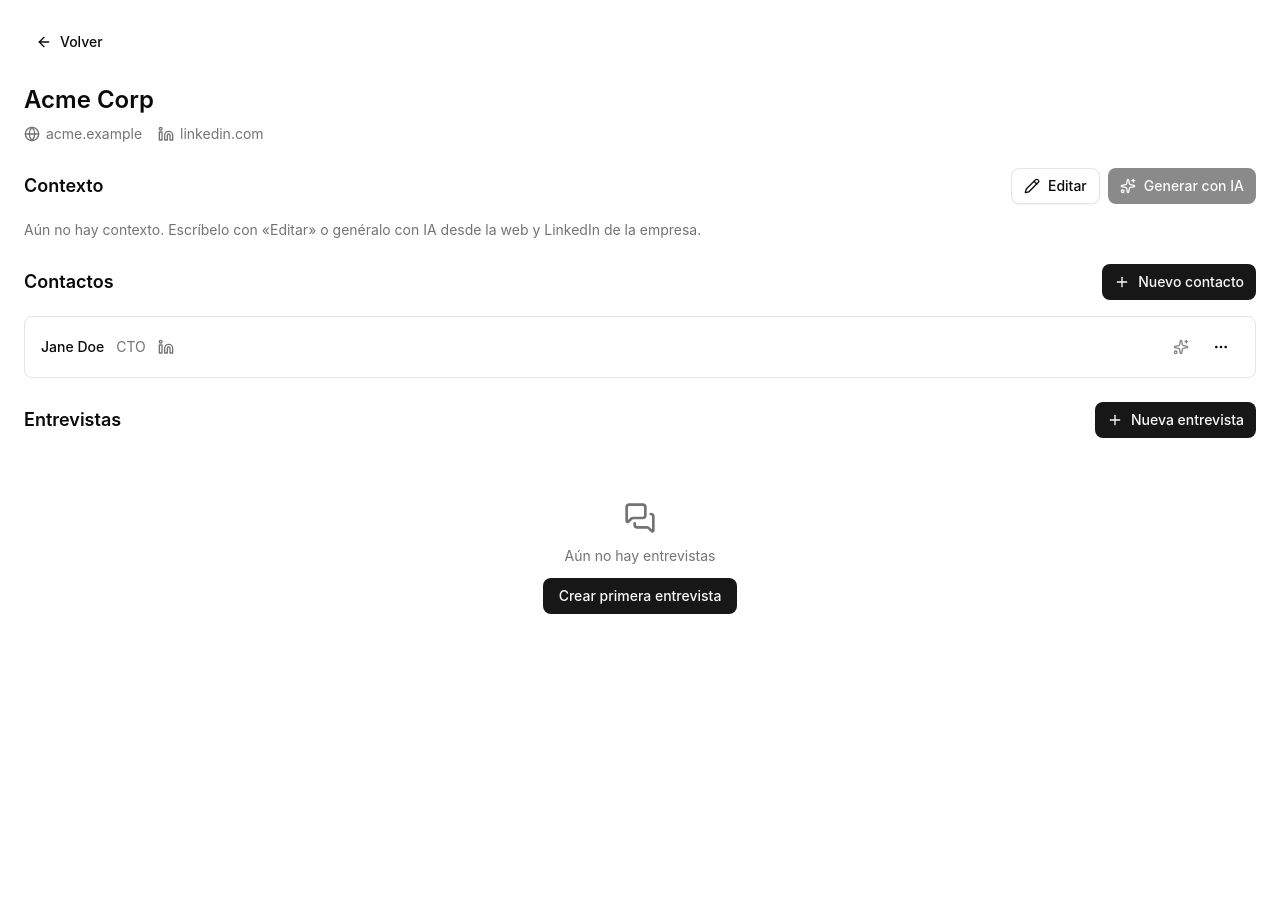
Test case: CompanyDetailPage › deleting a contact › confirms in the AlertDialog warning that interviews lose the participant, deletes via deleteContact and shows "Contacto eliminado"
Expected: the text "Jane Doe" is shown, [41,337,104,357]
Click the button named "Acciones": coordinates (1221, 347) [1203,329,1239,365]
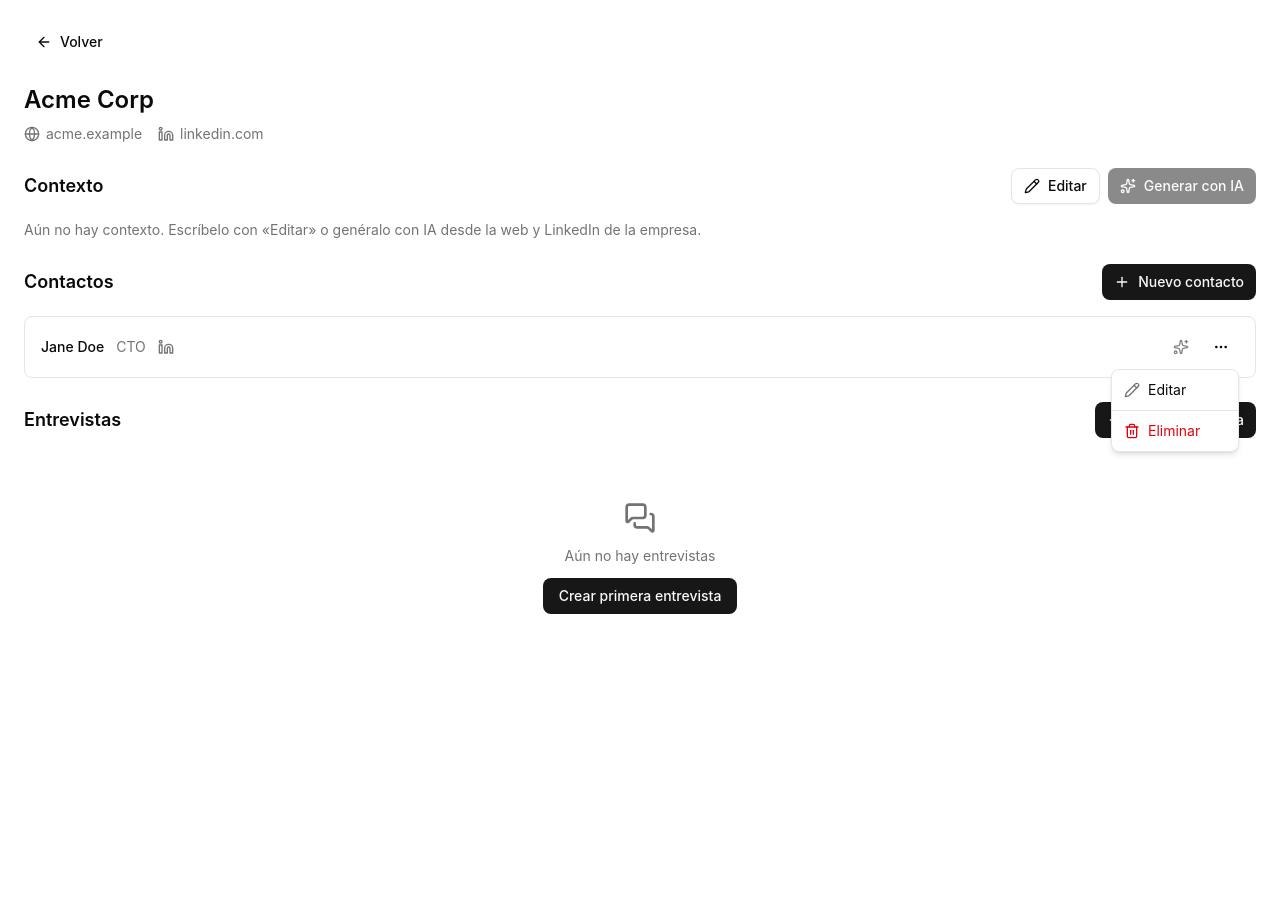
Click the menu item "Eliminar": coordinates (1162, 430) [1124,422,1200,439]
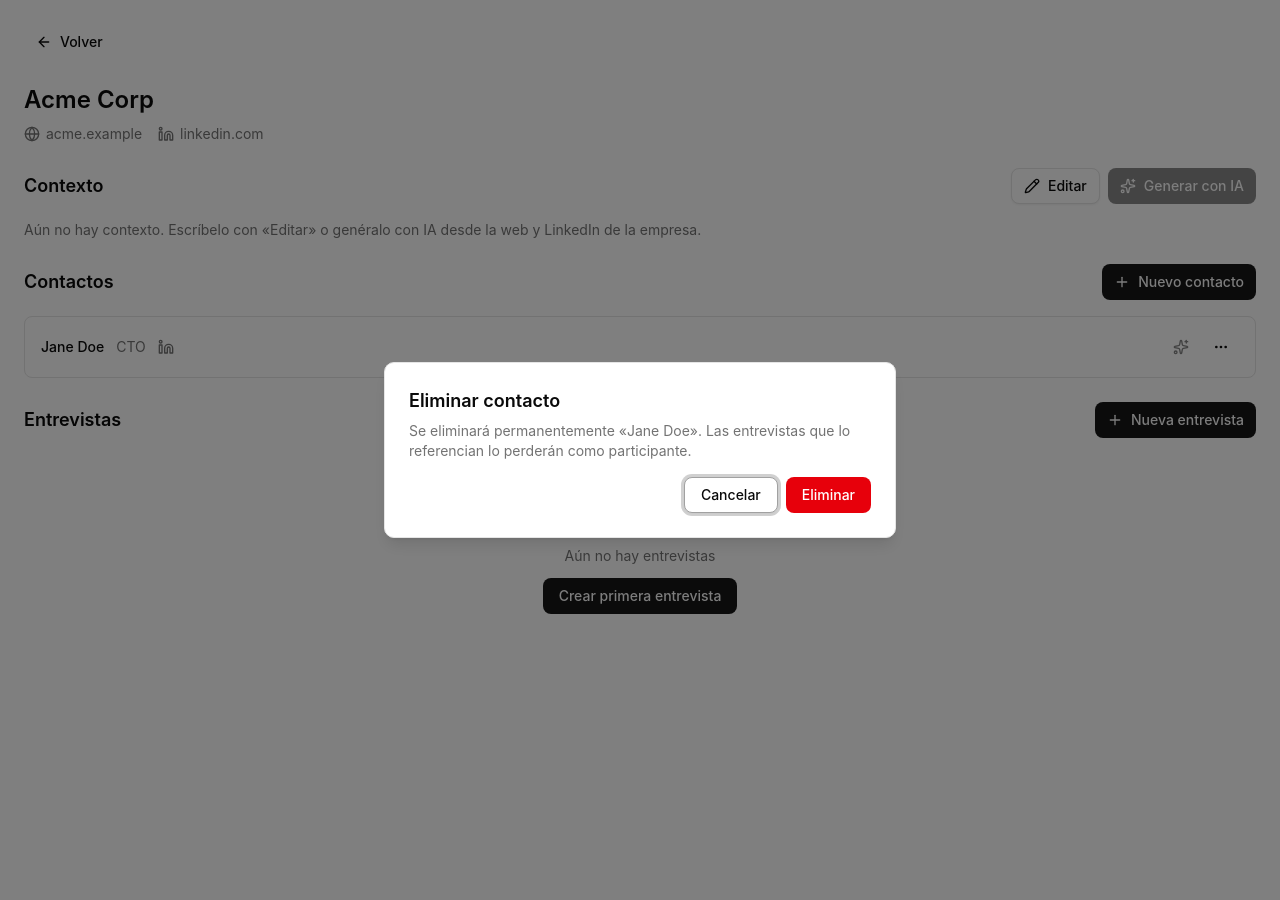
Expected: the heading "Eliminar contacto" is shown, [409,387,560,415]
Expected: the text "Se eliminará permanentemente «Jane Doe». Las entrevistas que lo referencian lo perderán como participante." is shown, [409,421,871,461]
Click the button "Eliminar": coordinates (828, 495) [786,477,871,513]
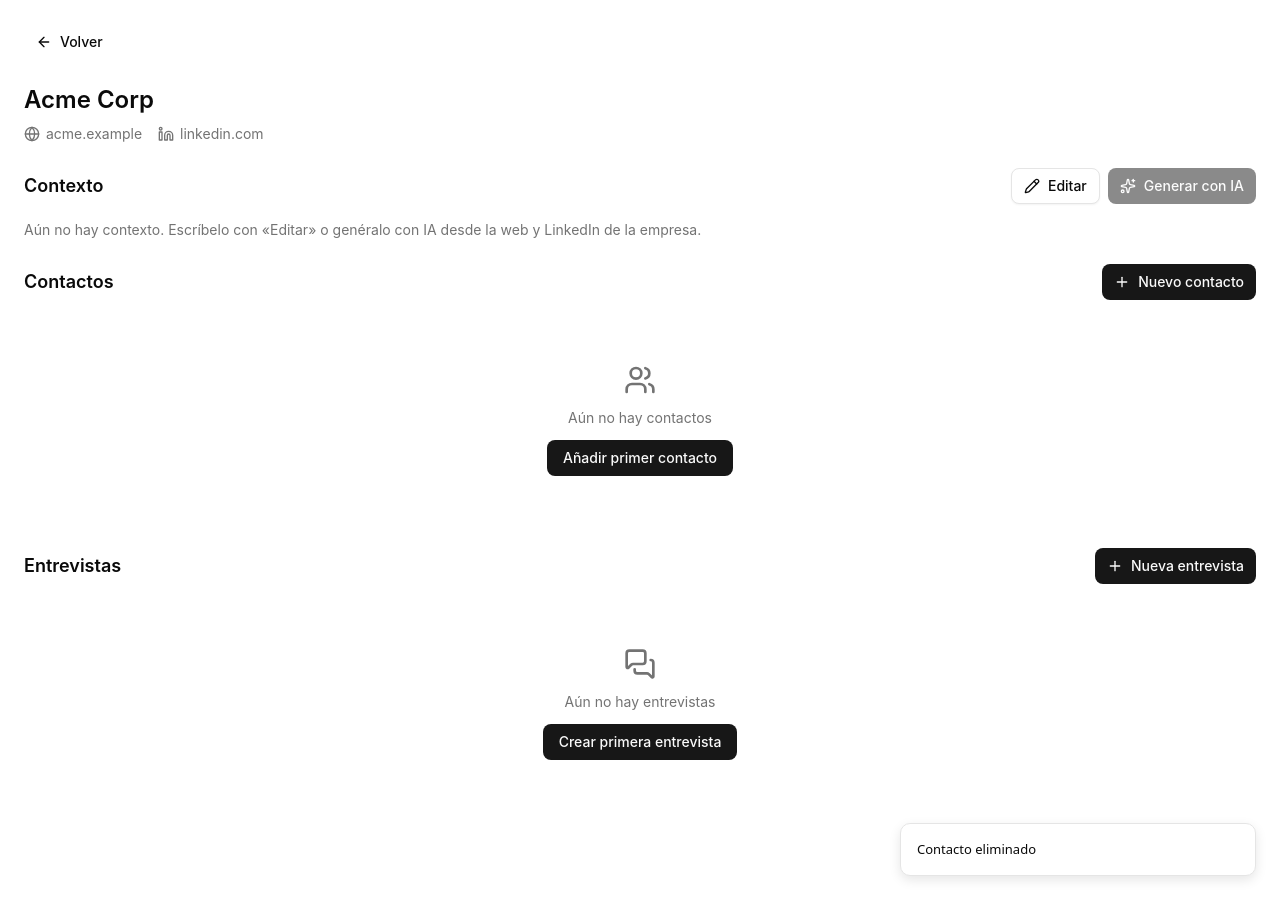
Expected: the text "Jane Doe" is gone
